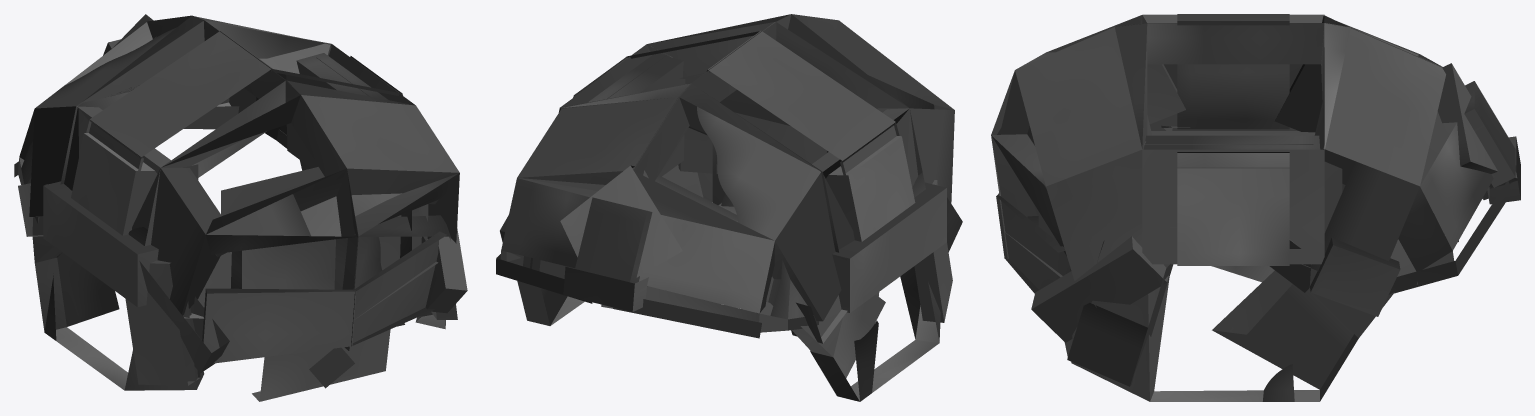
Rendered from civilian_h.obj.
3 renders of one model, left to right at view 1: azimuth 30°, elevation 25°; view 2: azimuth 150°, elevation 25°; view 3: azimuth 270°, elevation 25°, orthographic. The views are drawn at different scales.
Visible parts, largest first — view 1: cube; view 2: cube; view 3: cube.
Part boxes in pixels (box(x1,y1,x2,y2)): cube: box(14, 14, 467, 401); cube: box(496, 14, 962, 401); cube: box(991, 14, 1520, 401).
Size of the model in its own units: 0.7402 by 0.5973 by 0.9441.
